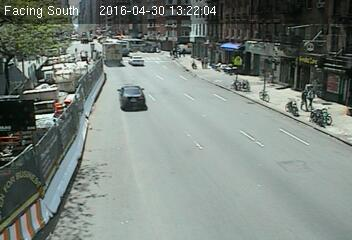neg: (11, 68, 50, 120), (57, 69, 83, 104), (70, 43, 89, 68), (41, 56, 59, 80)
pos: (293, 87, 311, 111), (308, 87, 323, 107)
